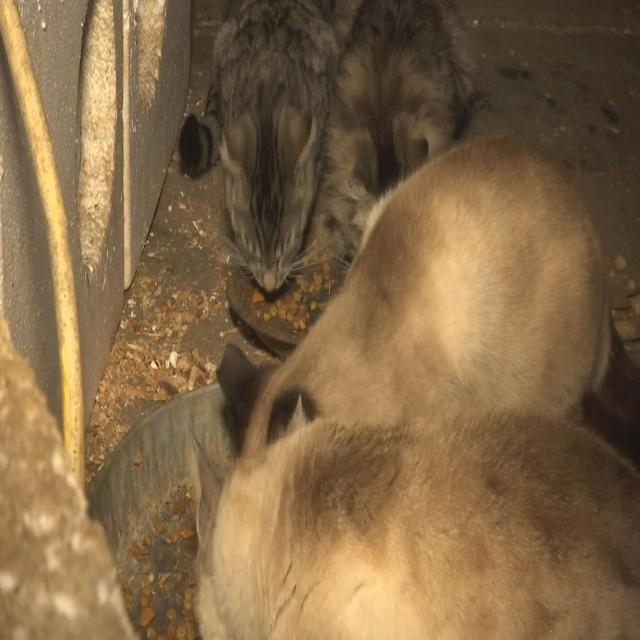cat: (219, 138, 640, 464), (196, 411, 640, 638), (179, 0, 354, 291), (305, 0, 472, 262)
